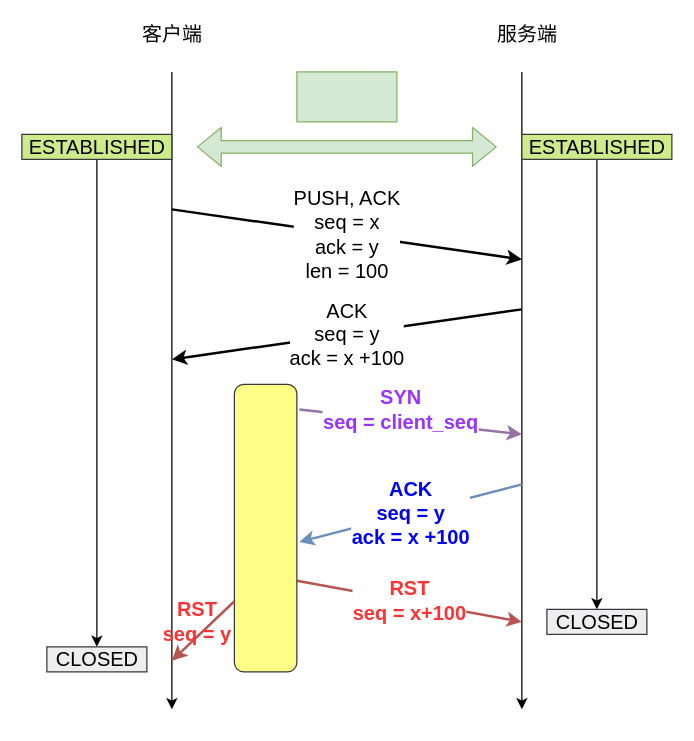
The diagram is 694 pixels wide and 741 high, and some of its shapes have lost their labels. Here are the shapes that lost their labels. From the top down, the box of each, then its label:
(296, 71, 397, 122): 三次握手 建立连接
(233, 383, 297, 672): killcx 工具 内鬼！
